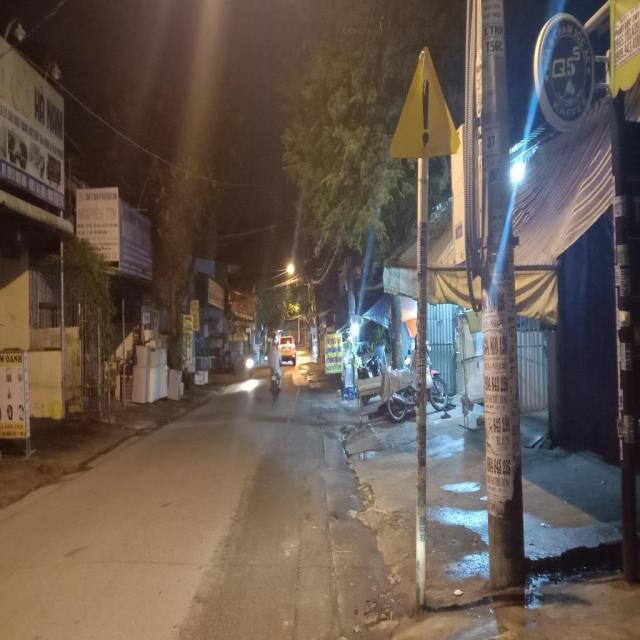nguy_hiem_khac: (386, 43, 464, 158)
